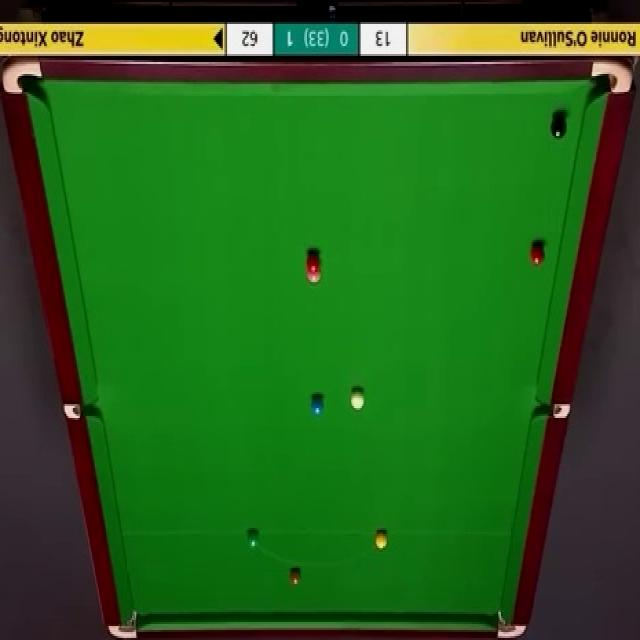black-ball: (550, 114, 568, 140)
blue-ball: (310, 397, 324, 418)
brown-ball: (289, 566, 302, 588)
green-ball: (247, 530, 260, 551)
pink-ball: (306, 274, 323, 284)
red-ball: (529, 242, 546, 267), (307, 251, 321, 272)
white-ball: (351, 388, 365, 411)
yellow-ball: (375, 530, 387, 550)
